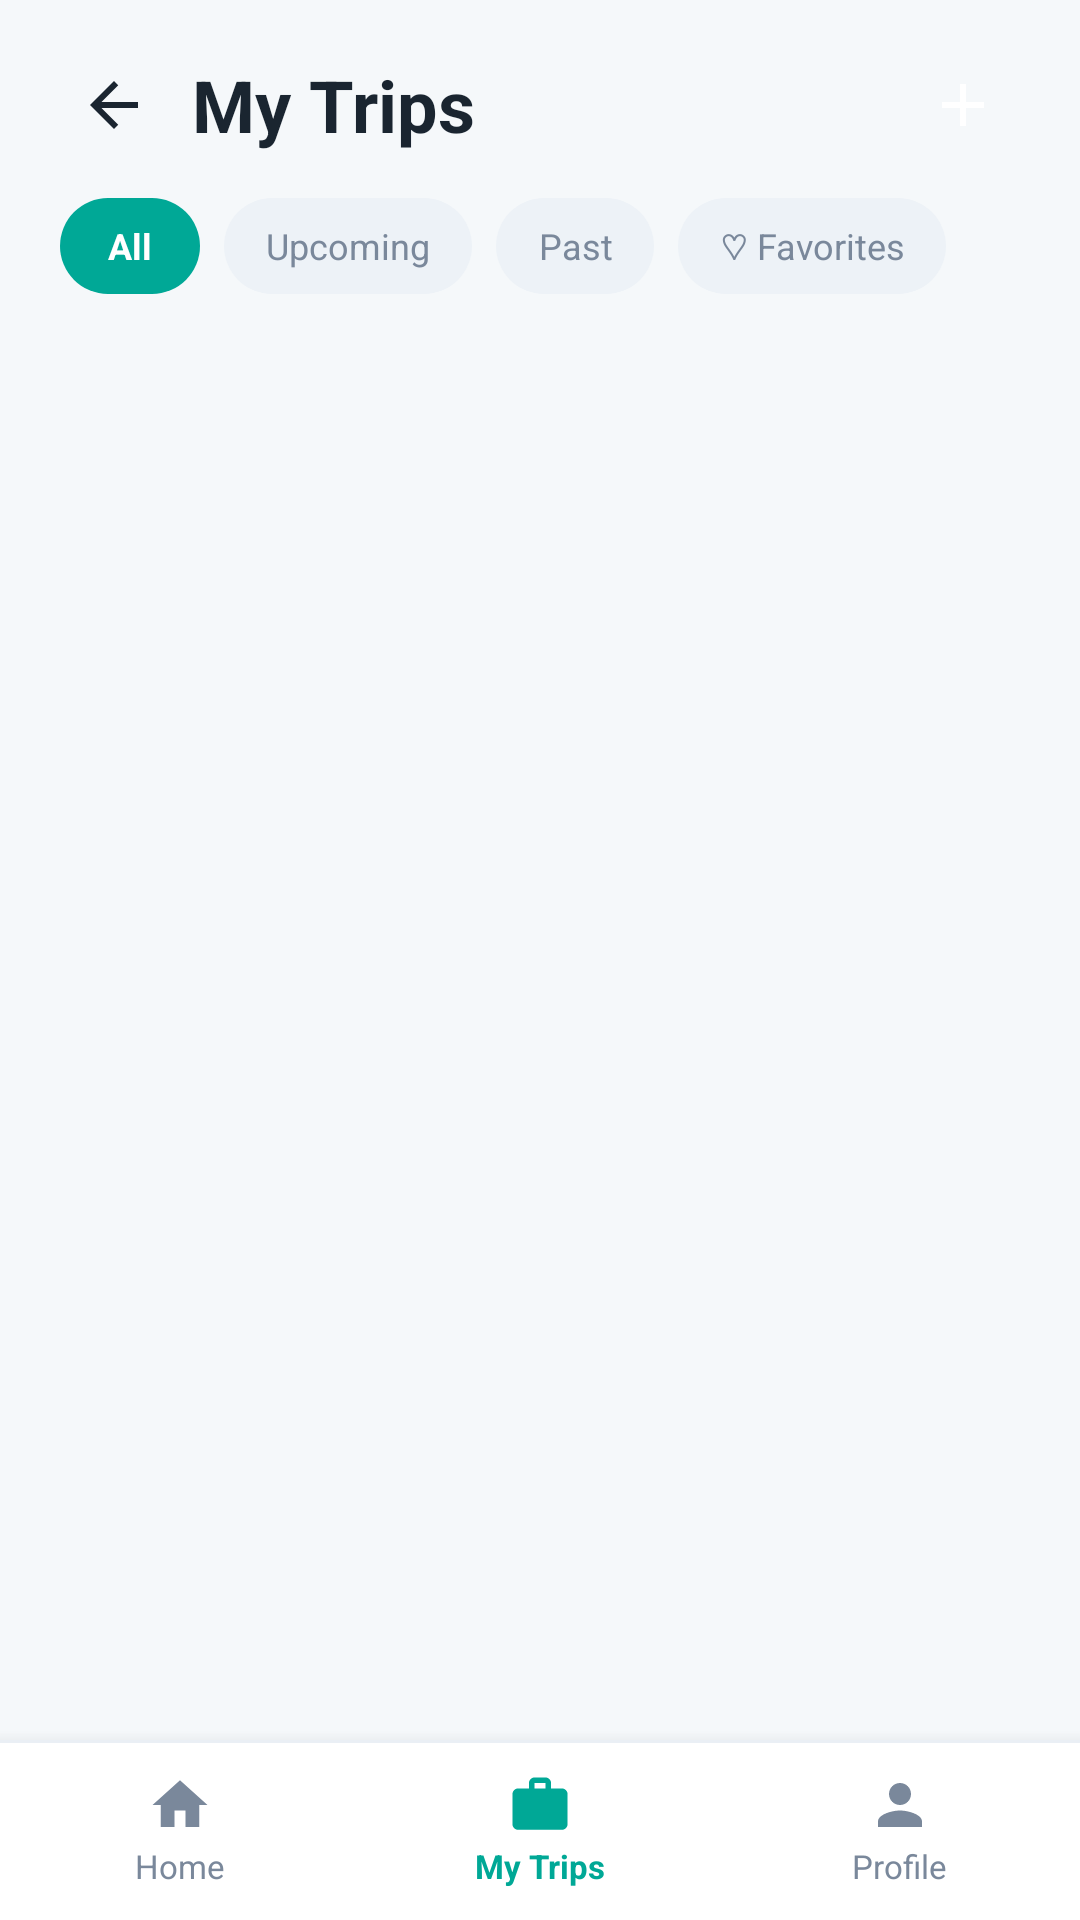

Icon click points for this 1080 x 1920 phone screenshot, format [x,y]:
Back: [114,105]
